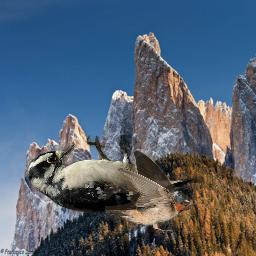Swallow: (104, 150, 193, 232)
Woodpecker: (28, 135, 204, 213)
